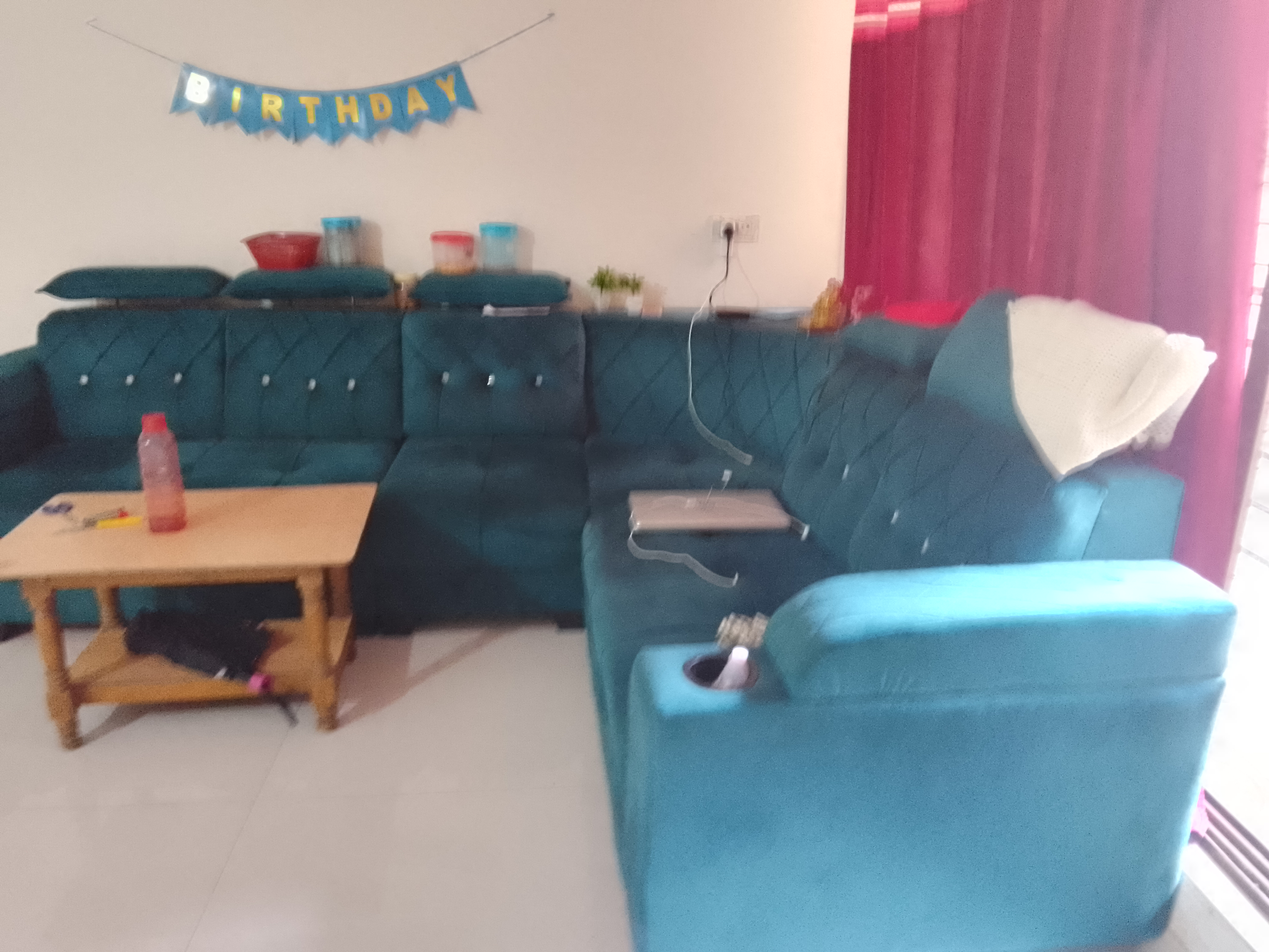sofa: (0, 265, 1238, 952)
table: (0, 479, 377, 750)
